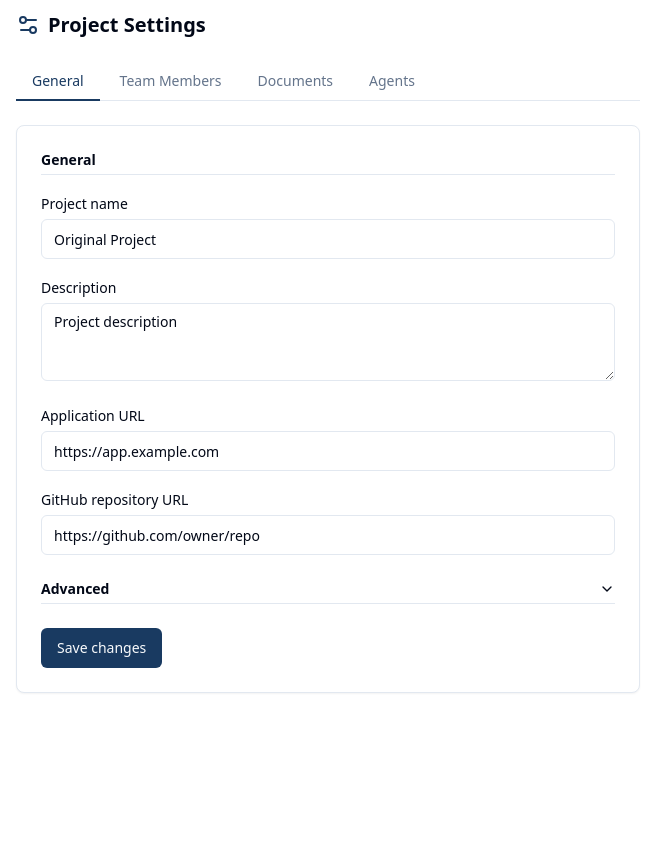
it: ProjectSettingsPage › Advanced settings section (AC4) › shows environment dropdown in advanced section
The image size is (657, 863).
Click the button with test id "toggle-advanced" at (75, 588), box [41, 579, 615, 604]
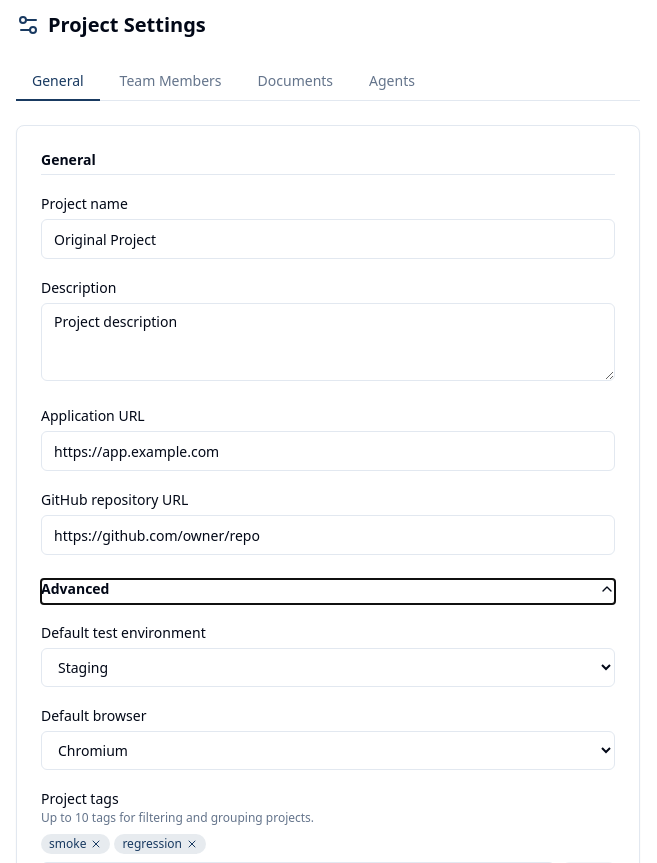
Result: the dropdown with test id "select-environment" is shown at [41, 648, 615, 687]
